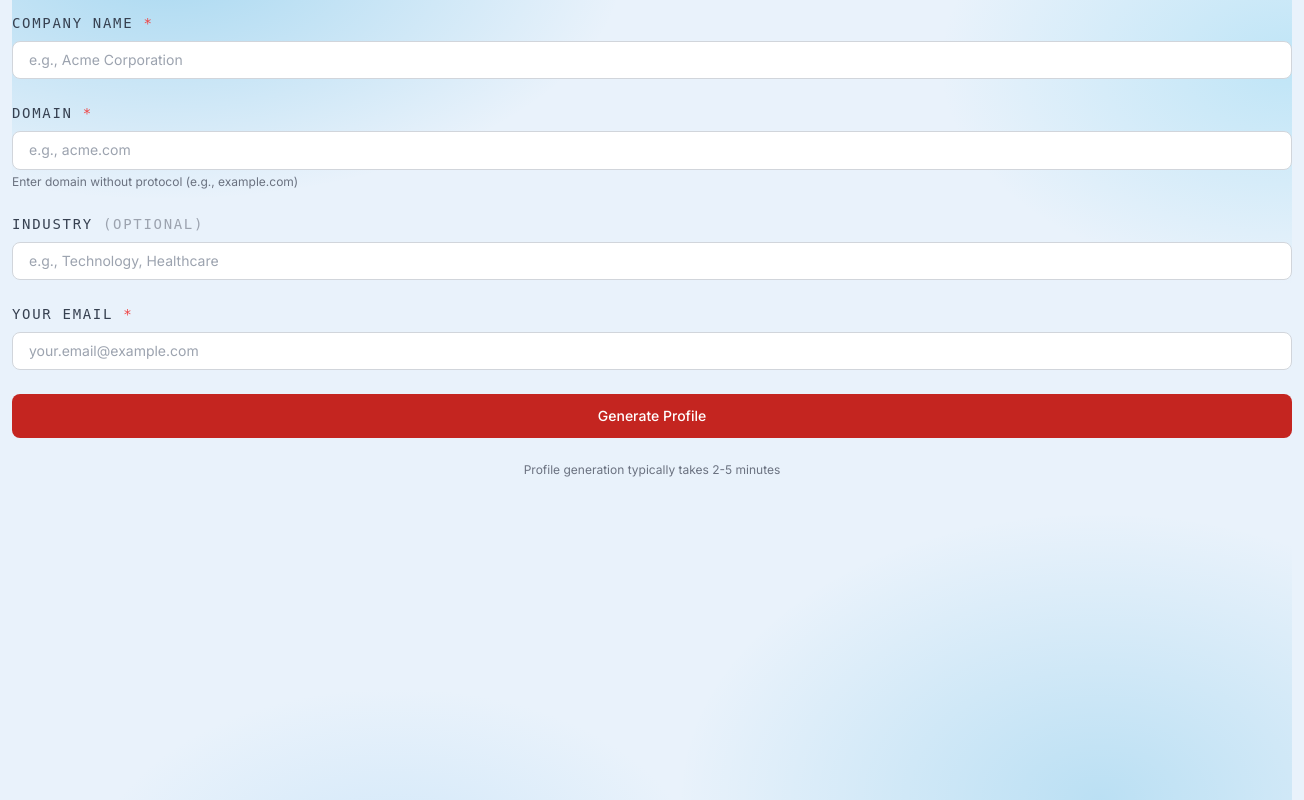
Test: ProfileRequestForm › should display validation errors for empty required fields
Click the button "Generate Profile" at (652, 416), box x1=12 y1=394 x2=1292 y2=438
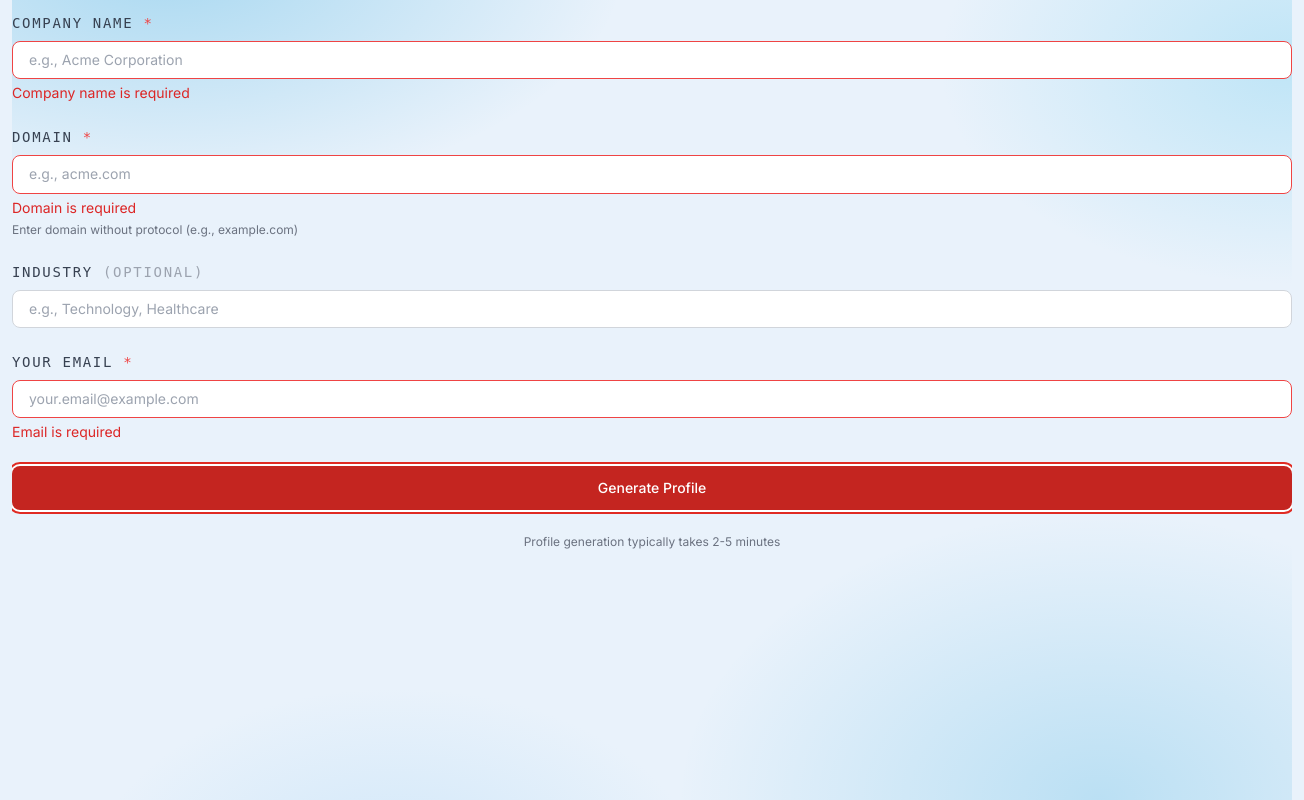
Expected: the text "Company name is required" is shown, x1=12 y1=84 x2=190 y2=101
Expected: the text "Domain is required" is shown, x1=12 y1=199 x2=136 y2=216
Expected: the text "Email is required" is shown, x1=12 y1=423 x2=121 y2=440
